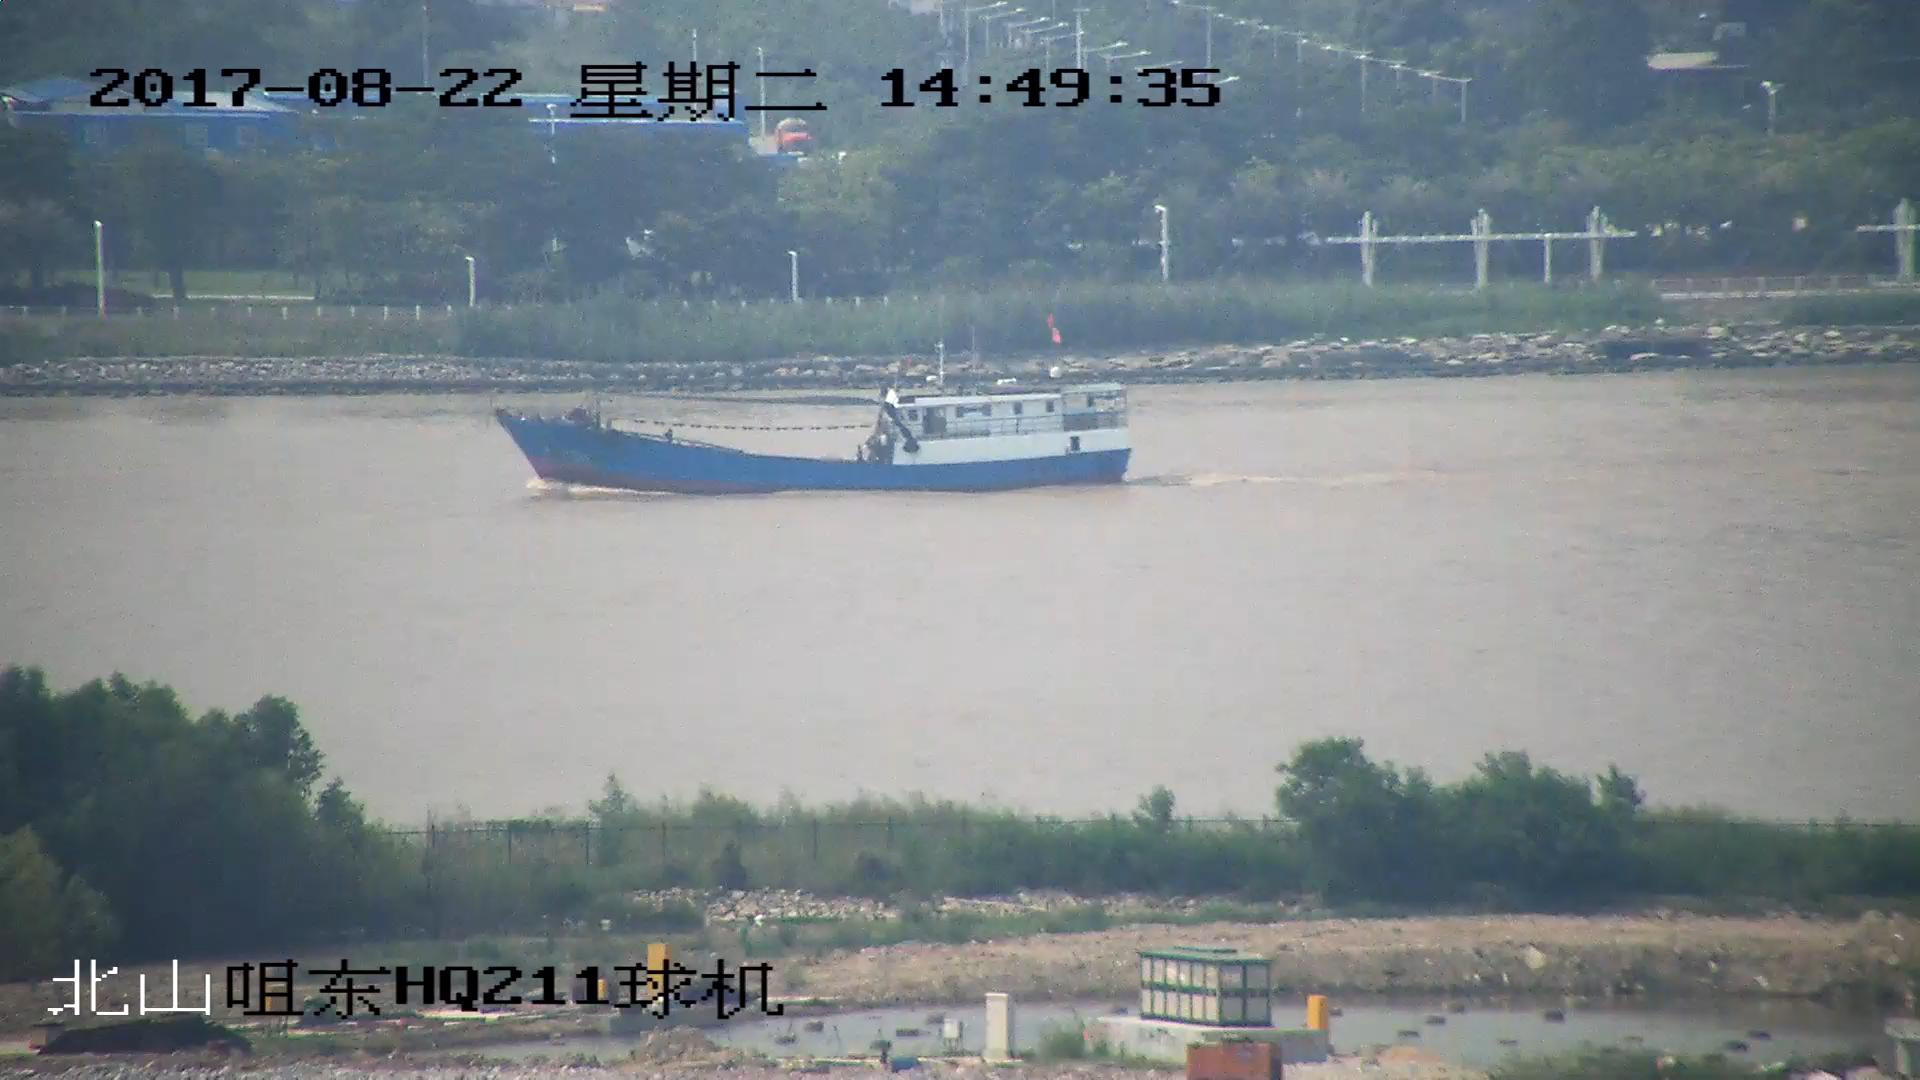fishing boat: (506, 322, 1135, 498)
